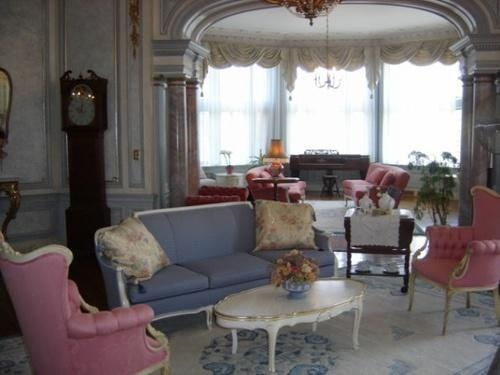chair: (1, 230, 174, 375), (406, 183, 500, 337)
pottedplant: (408, 149, 462, 228)
sofa: (91, 199, 342, 332), (341, 162, 414, 212), (246, 162, 310, 206)
